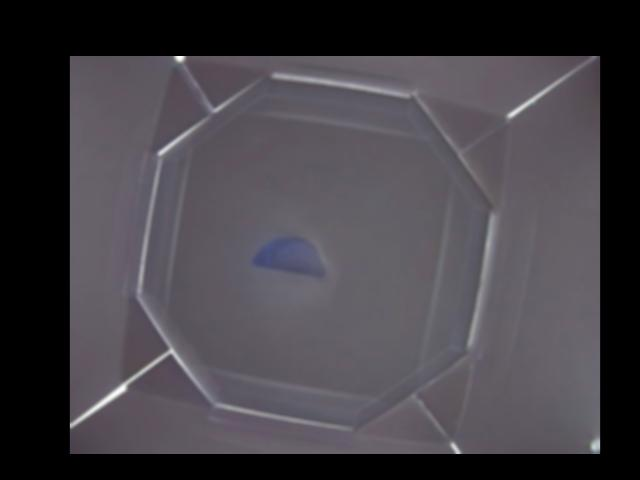Mooli: (250, 236, 326, 277)
